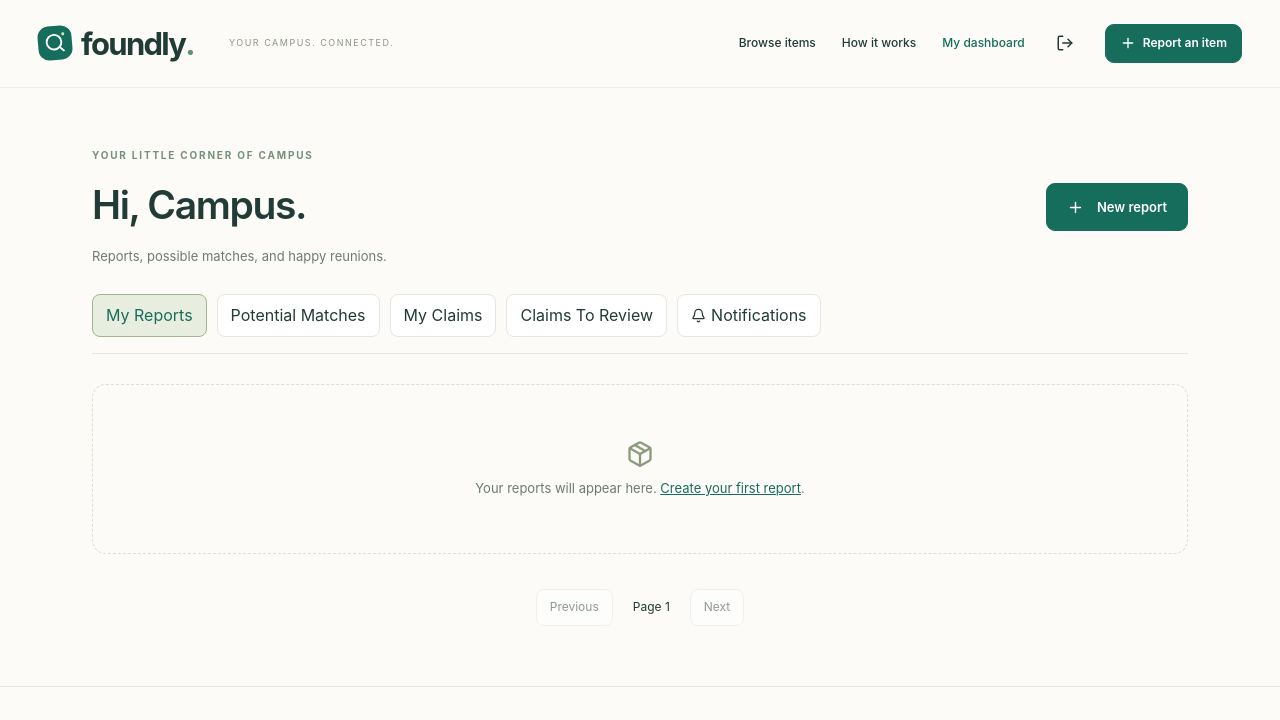
Authenticated dashboard › can switch between claims and reports without rendering a stale result
The width and height of the screenshot is (1280, 720).
Expected: the text "Your reports will appear here. Create your first report ." is shown, [475,478,805,498]
Click the button "My claims": point(443, 316) [390,294,496,337]
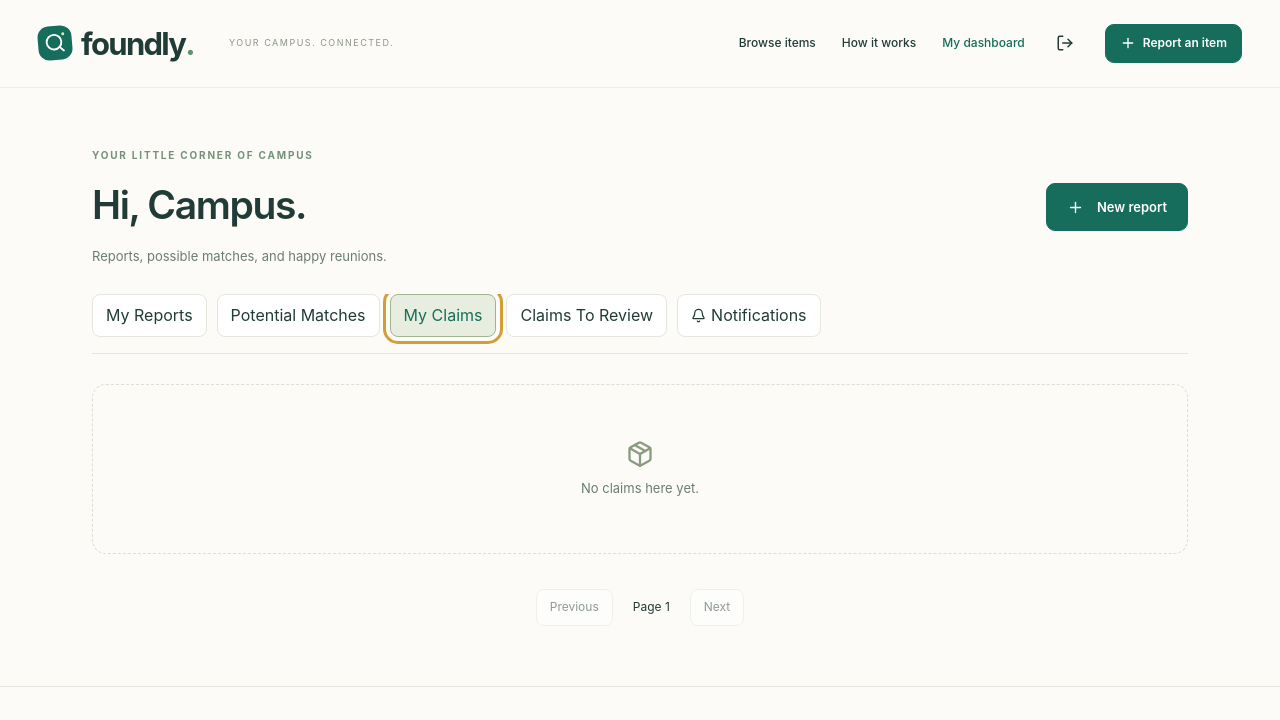
Expected: the text "No claims here yet." is shown, [581,478,699,498]
Click the button "My reports": point(149, 316) [92,294,207,337]
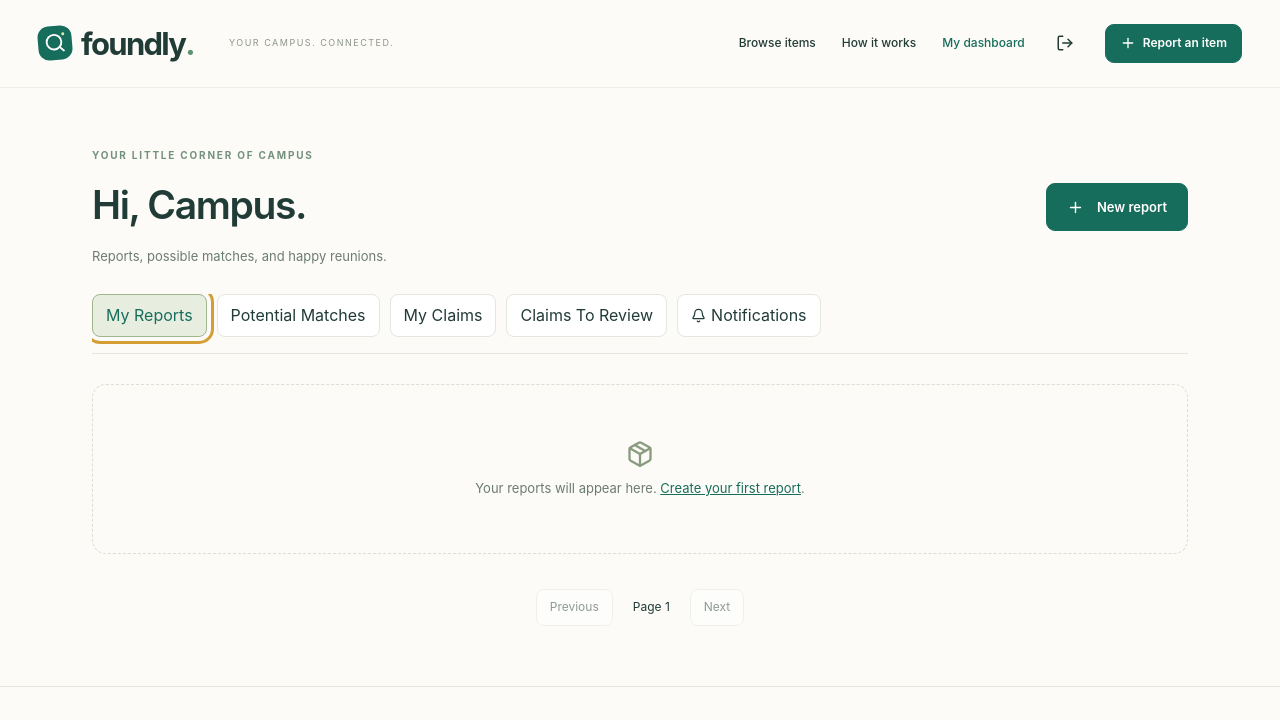
Expected: the text "Your reports will appear here. Create your first report ." is shown, [475,478,805,498]
